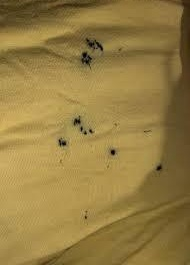ink: (73, 116, 94, 134), (87, 38, 104, 49), (79, 53, 91, 66), (58, 139, 66, 147), (155, 165, 162, 173), (110, 149, 116, 156)
